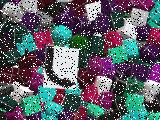Left: (43, 45, 79, 90)
